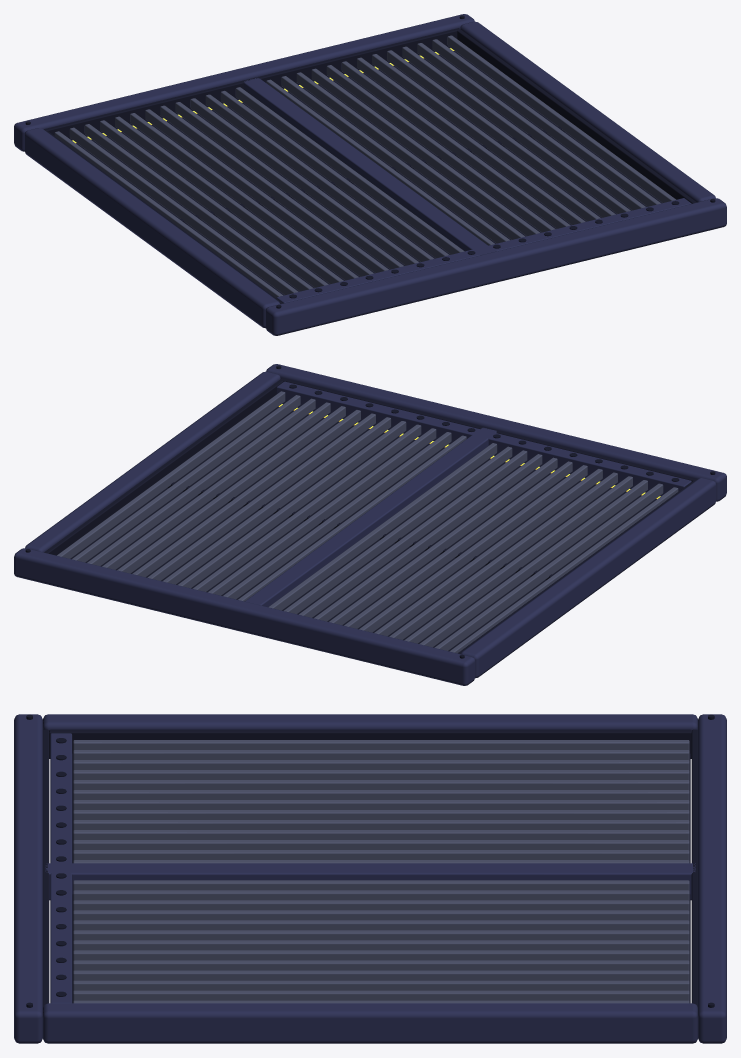
Rendered from roof.vent.w3.d3.glb.
The picture shows the model from 3 angles, top to bottom: view 1: azimuth 30°, elevation 25°; view 2: azimuth 150°, elevation 25°; view 3: azimuth 270°, elevation 25°; orthographic projection. The views are drawn at different scales.
Parts seen in each view (by area): view 1: roof.vent.w3.d3; view 2: roof.vent.w3.d3; view 3: roof.vent.w3.d3.
Boxes of the visible parts, left/top/right/bottom form: roof.vent.w3.d3: left=14, top=14, right=726, bottom=335; roof.vent.w3.d3: left=14, top=364, right=726, bottom=685; roof.vent.w3.d3: left=14, top=714, right=726, bottom=1043.
Bounding box in the file's own units: 2.94 × 0.161 × 2.94.
